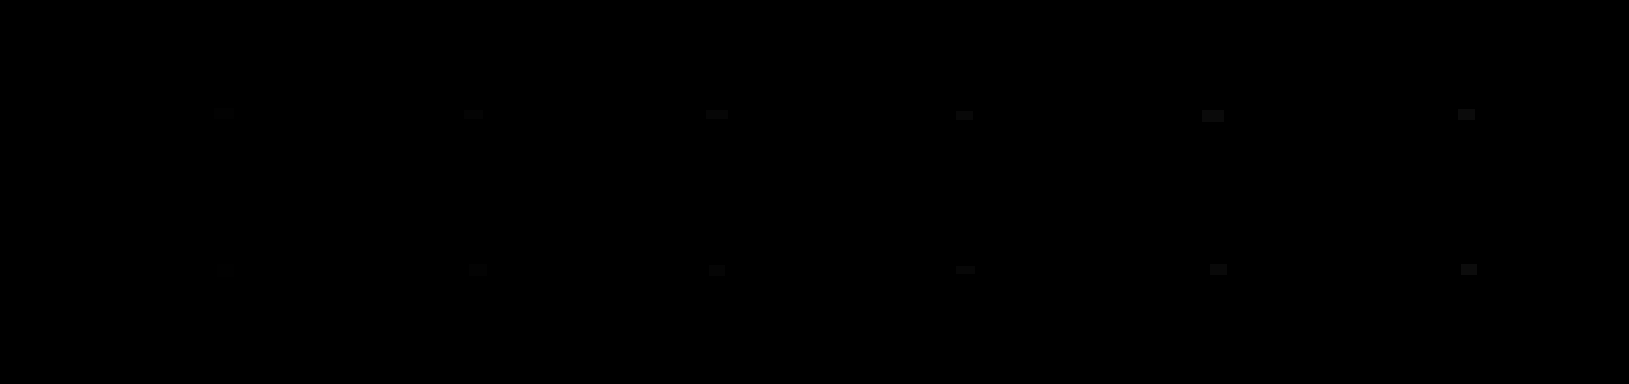light: (1202, 110, 1224, 122), (469, 264, 487, 276), (214, 108, 234, 119), (217, 264, 234, 277), (706, 110, 728, 119), (1458, 109, 1475, 120), (709, 265, 725, 276), (1210, 264, 1227, 275), (1461, 264, 1477, 275), (464, 110, 483, 119), (956, 111, 973, 120), (956, 266, 974, 274)
